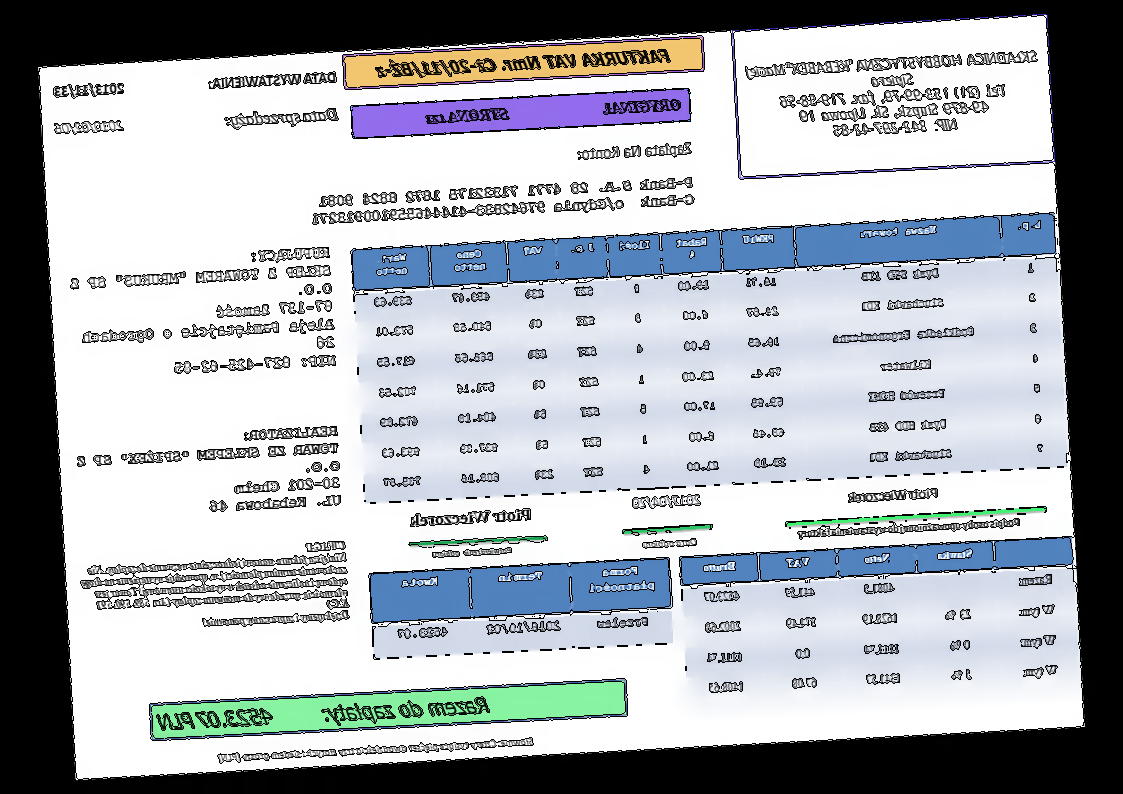Table: (349, 210, 1070, 506), (678, 534, 1082, 709), (367, 554, 676, 660)
TextBox: (64, 242, 340, 385), (741, 46, 1045, 146), (74, 536, 354, 639), (72, 422, 344, 523), (306, 173, 697, 230), (154, 692, 494, 734), (369, 42, 674, 83), (215, 734, 538, 765), (423, 93, 684, 127), (796, 514, 1023, 542), (220, 102, 341, 132), (206, 68, 338, 92), (573, 139, 694, 164), (408, 506, 534, 528), (843, 484, 943, 506), (49, 80, 128, 101), (631, 491, 704, 513), (51, 117, 128, 137), (431, 544, 514, 561), (641, 534, 701, 551)
